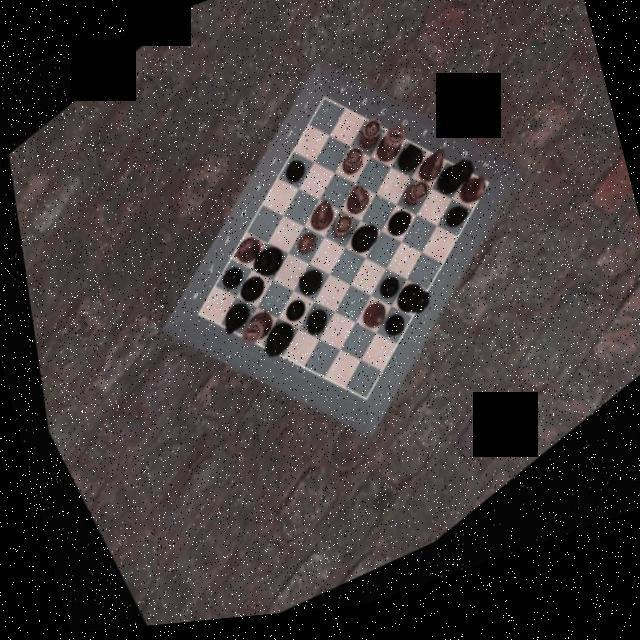chess-table-corners: (173, 302, 210, 343), (300, 96, 336, 136), (347, 392, 382, 430), (467, 186, 500, 222)
